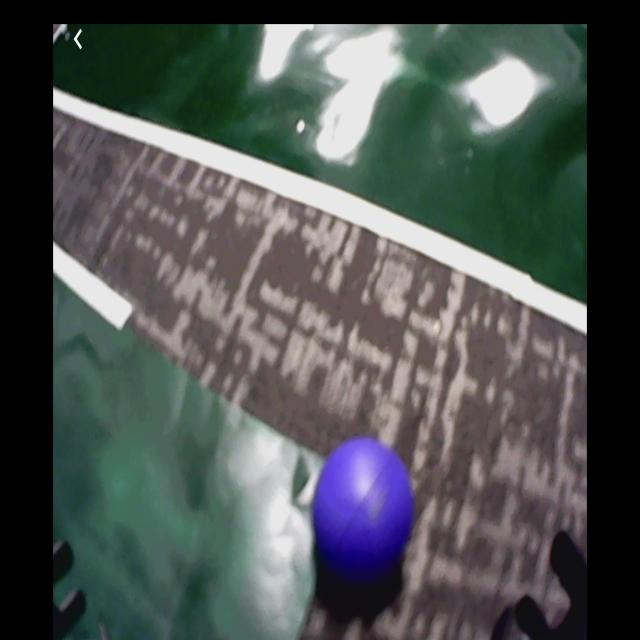ball: (314, 441, 412, 582)
